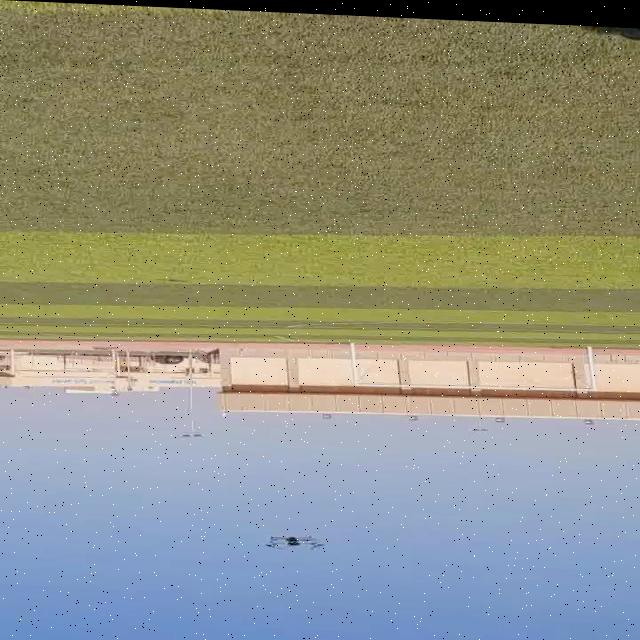drone: (265, 530, 329, 555)
